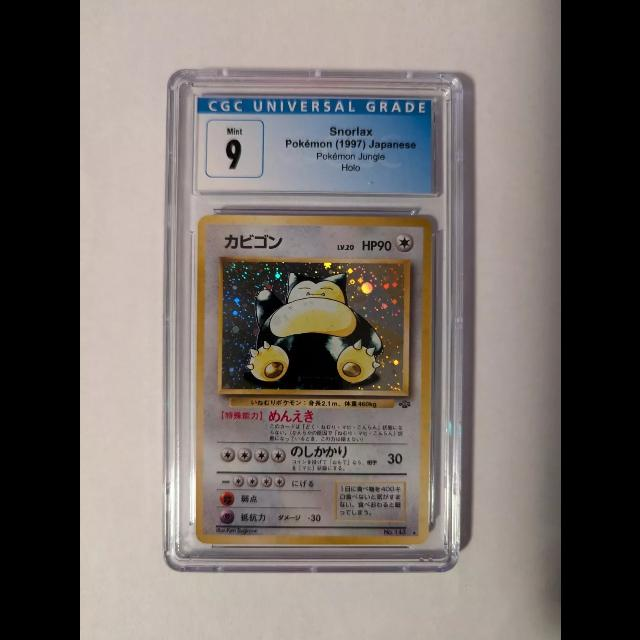card: (195, 213, 434, 546)
cgc_label_old: (193, 97, 433, 195)
cgc_slab: (161, 69, 463, 574)
